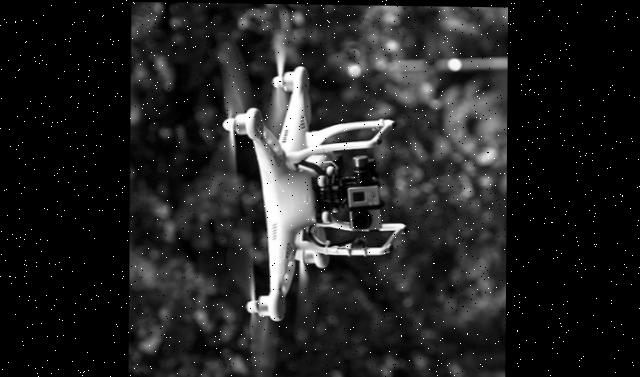drone: (221, 61, 412, 324)
